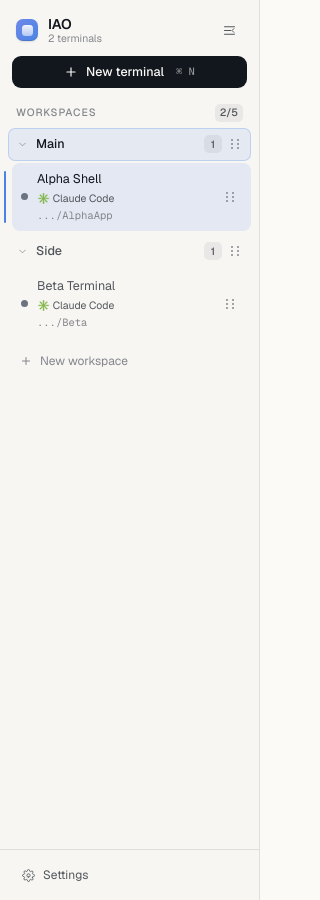
Test: Sidebar › inline workspace rename › clicking workspace name shows a rename input pre-filled with current name
Click the text "Main" at (50, 144), box [36,135,65,152]
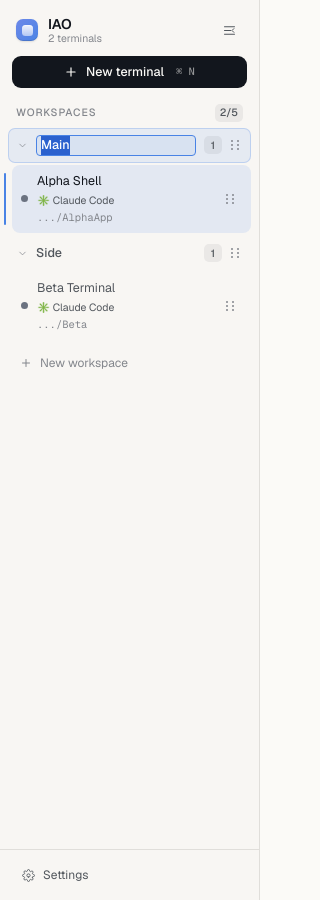
Expected: the field showing "Main" is shown, [36,135,196,156]
